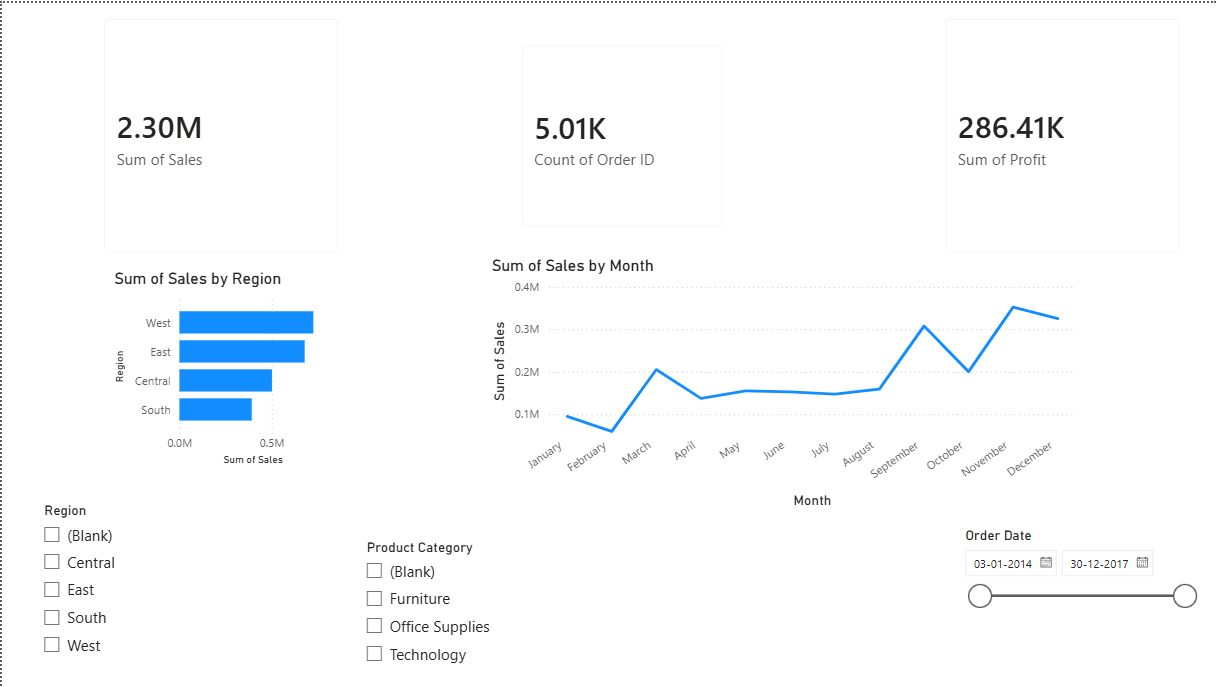

The page's visual inventory and layout, read from the dashboard file:
{"tool":"powerbi","page":{"name":"Page 1","canvas":[1280,720],"ordinal":0},"visuals":[{"type":"cardVisual","fields":{"Data":["Sum(Sample - Superstore.Sales)"]},"box":[90.5,0,280,280],"z":0},{"type":"cardVisual","fields":{"Data":["Sum(Sample - Superstore.Profit)"]},"box":[975.8,0,280,280],"z":1000},{"type":"cardVisual","fields":{"Data":["Count(Sample - Superstore.Order ID)"]},"box":[530.7,28.1,245.8,225],"z":2000},{"type":"clusteredBarChart","fields":{"Y":["Sum(Sample - Superstore.Sales)"],"Category":["Sample - Superstore.Region"]},"box":[113.7,280,248.2,211.6],"z":3000},{"type":"lineChart","fields":{"Category":["Sample - Superstore.Order Date.Variation.Date Hierarchy.Month"],"Y":["Sum(Sample - Superstore.Sales)"]},"box":[509.9,265.4,624.9,271.5],"z":4000},{"type":"slicer","fields":{"Values":["Sample - Superstore.Region"]},"box":[31.8,520.9,271.5,199.3],"z":5000},{"type":"slicer","fields":{"Values":["Sample - Superstore.Product Category"]},"box":[370.5,558.8,282.5,161.4],"z":6000},{"type":"slicer","fields":{"Values":["Sample - Superstore.Order Date"]},"box":[1001.5,547.8,265.4,160.2],"z":7000}]}

Visuals, with their boxes in screenshot pixels (x1, y1, x2, y2), scaled from the page's 1280x720 canvas onto the 1217x687 screenshot:
cardVisual - Sum(Sample - Superstore.Sales): left=86, top=0, right=352, bottom=267
cardVisual - Sum(Sample - Superstore.Profit): left=928, top=0, right=1194, bottom=267
cardVisual - Count(Sample - Superstore.Order ID): left=505, top=27, right=738, bottom=241
clusteredBarChart - Sum(Sample - Superstore.Sales) x Sample - Superstore.Region: left=108, top=267, right=344, bottom=469
lineChart - Sample - Superstore.Order Date.Variation.Date Hierarchy.Month x Sum(Sample - Superstore.Sales): left=485, top=253, right=1079, bottom=512
slicer - Sample - Superstore.Region: left=30, top=497, right=288, bottom=686
slicer - Sample - Superstore.Product Category: left=352, top=533, right=621, bottom=686
slicer - Sample - Superstore.Order Date: left=952, top=523, right=1205, bottom=676
